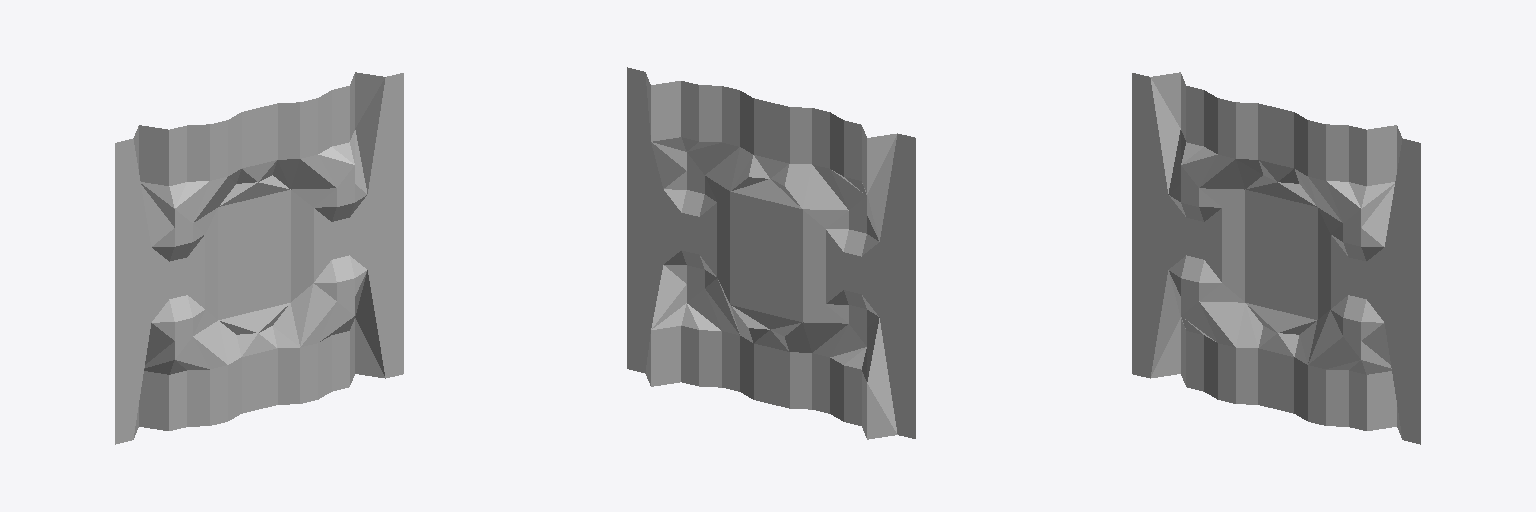
The model's file is bumps_central_d.obj.
3 views of the same model, side by side, from view 1: azimuth 30°, elevation 25°; view 2: azimuth 150°, elevation 25°; view 3: azimuth 330°, elevation 25° (orthographic).
Visible parts, largest first — view 1: street; view 2: street; view 3: street.
Part boxes in pixels (x1,y1,x2,y2): street: (115, 72, 403, 444); street: (627, 67, 915, 439); street: (1132, 72, 1420, 444).
Bounding box in the file's own units: 2 × 2 × 0.2131.